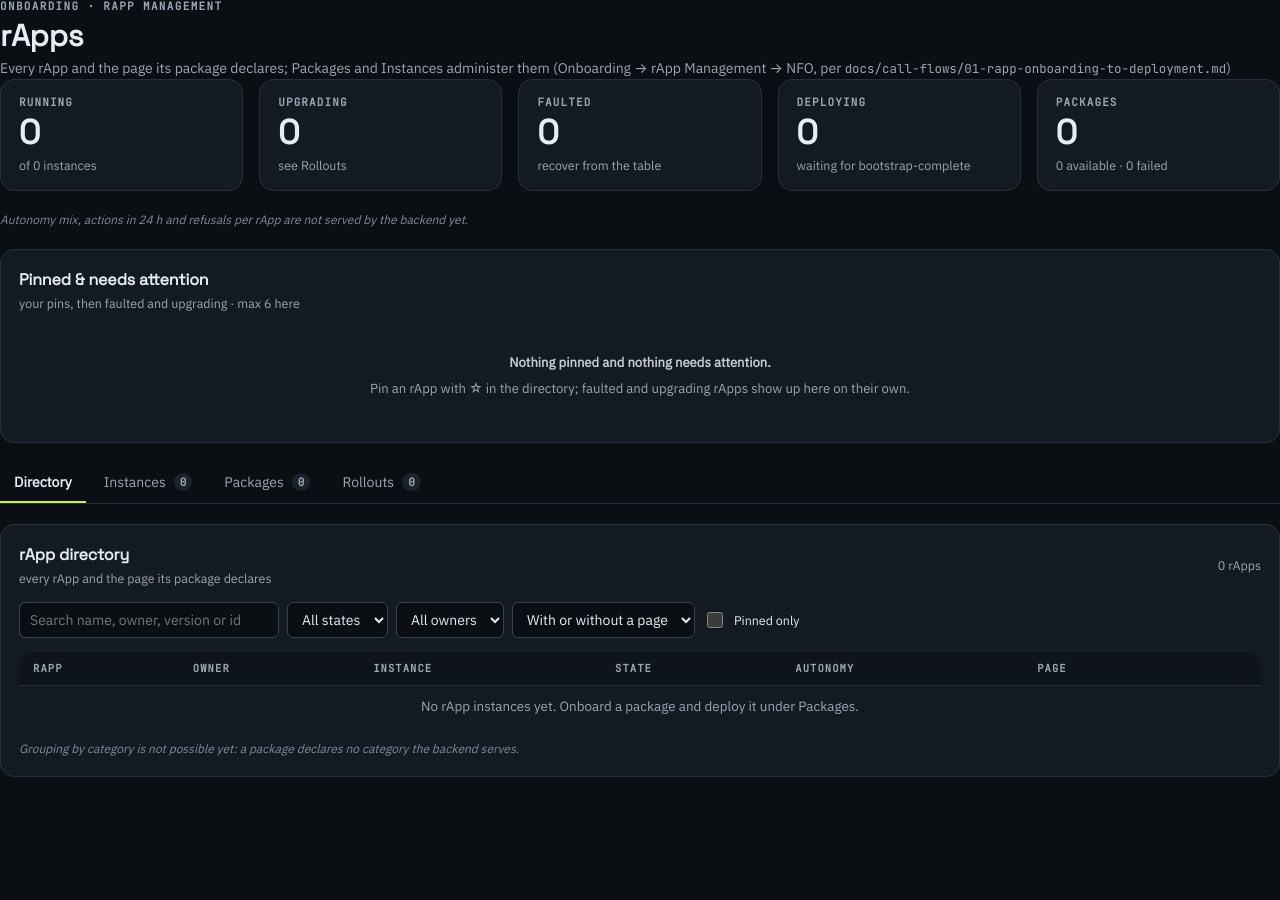
Scenario: rApps page › switches tabs and writes the hash
Click the tab "Packages 0": (267, 483) [210, 463, 324, 503]
(page scrolled)
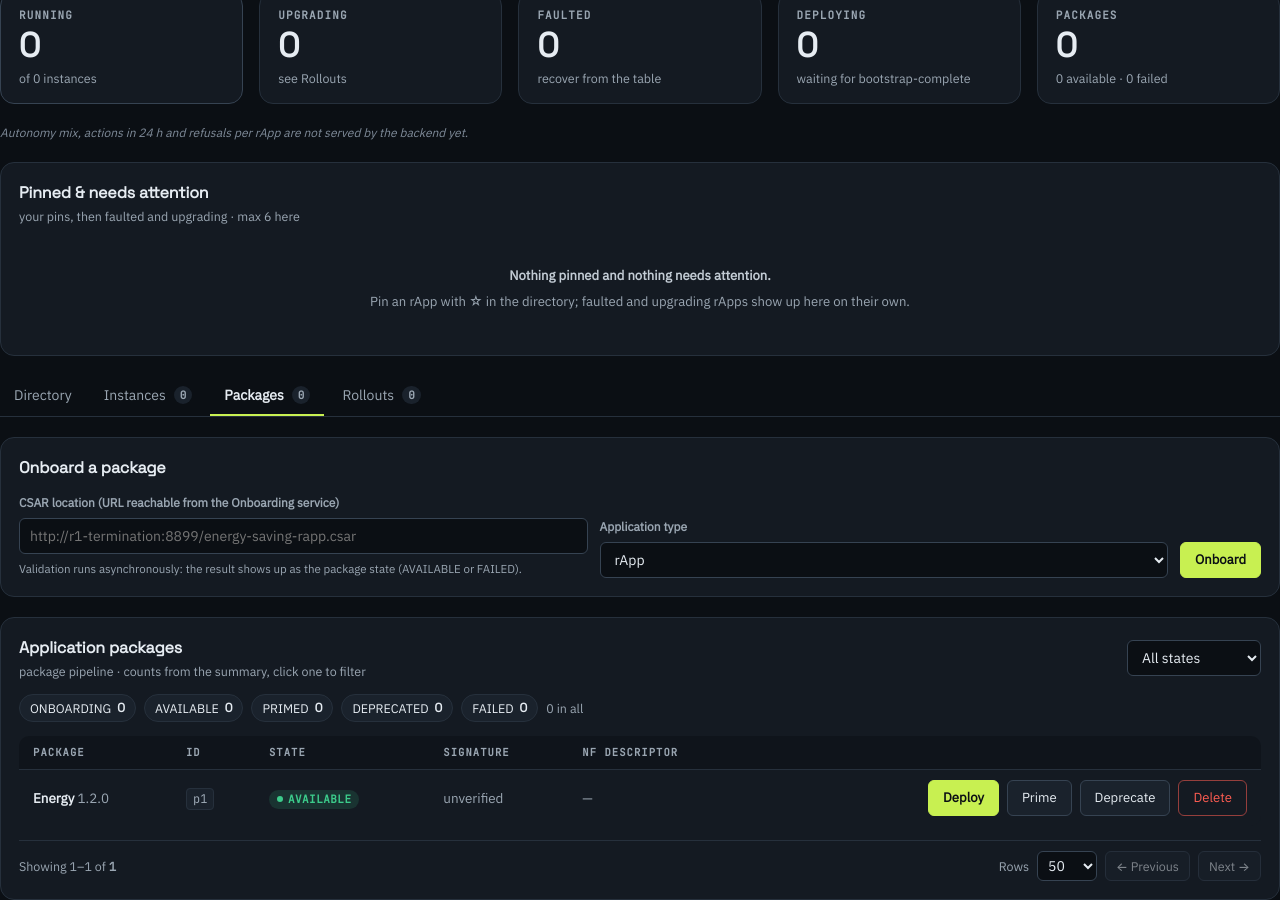
Expected: the text "Onboard a package" is shown, [19, 456, 166, 480]
Now the element that starts with "Application packages" is shown, box [0, 617, 1279, 899]
